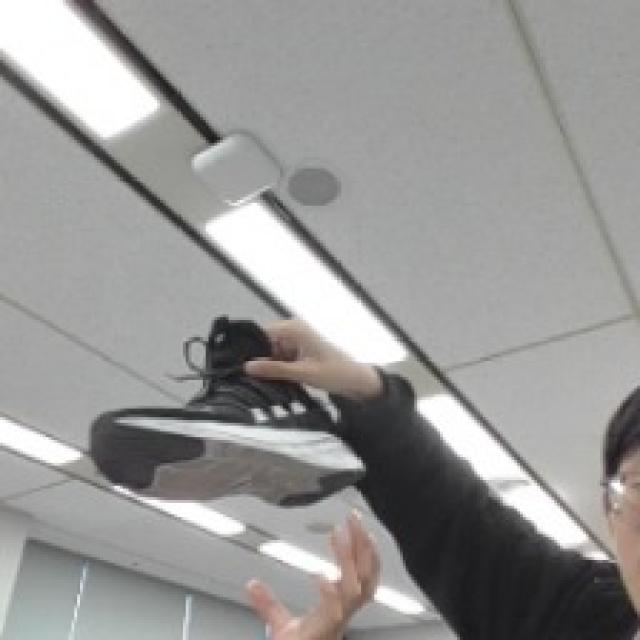shoe: (85, 310, 365, 503)
